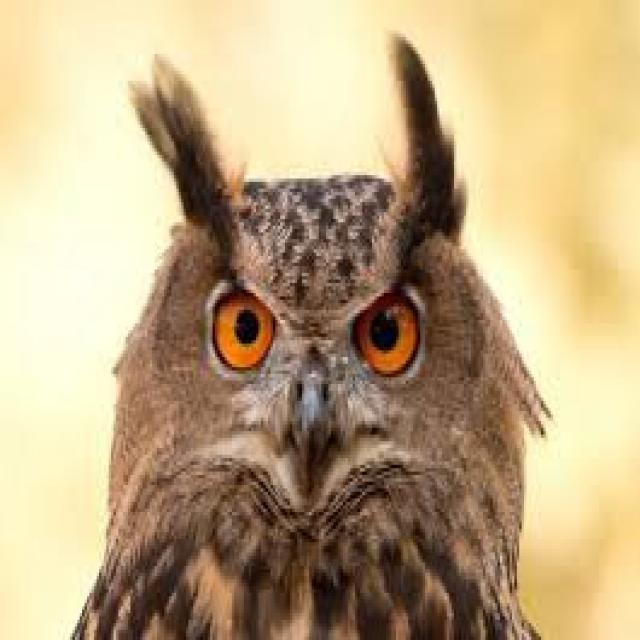Owl: (76, 26, 552, 640)
